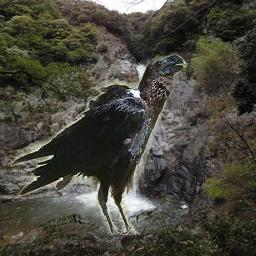Crow: (10, 53, 186, 236)
